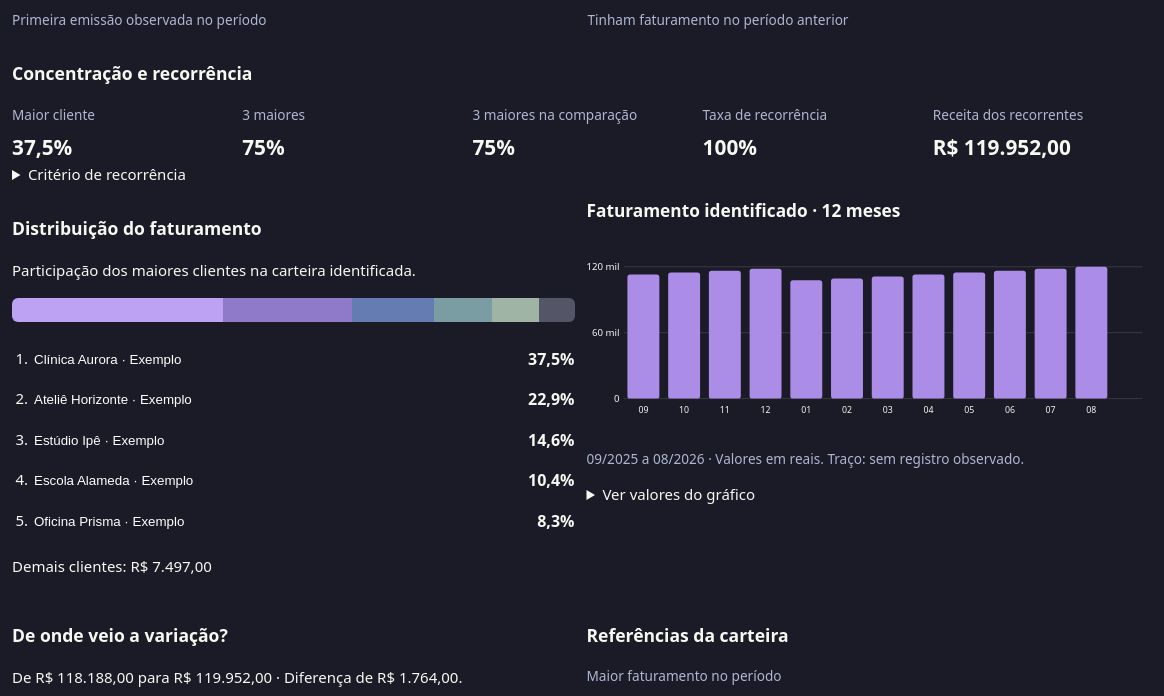
Test: relatório tem gráficos, números e detalhe das notas
(page scrolled)
Expected: the picture named "Faturamento identificado · 12 meses" is shown, [586, 236, 1149, 429]
Click the button "Clínica Aurora · Exemplo": (108,359) [32, 350, 183, 369]
(page scrolled)
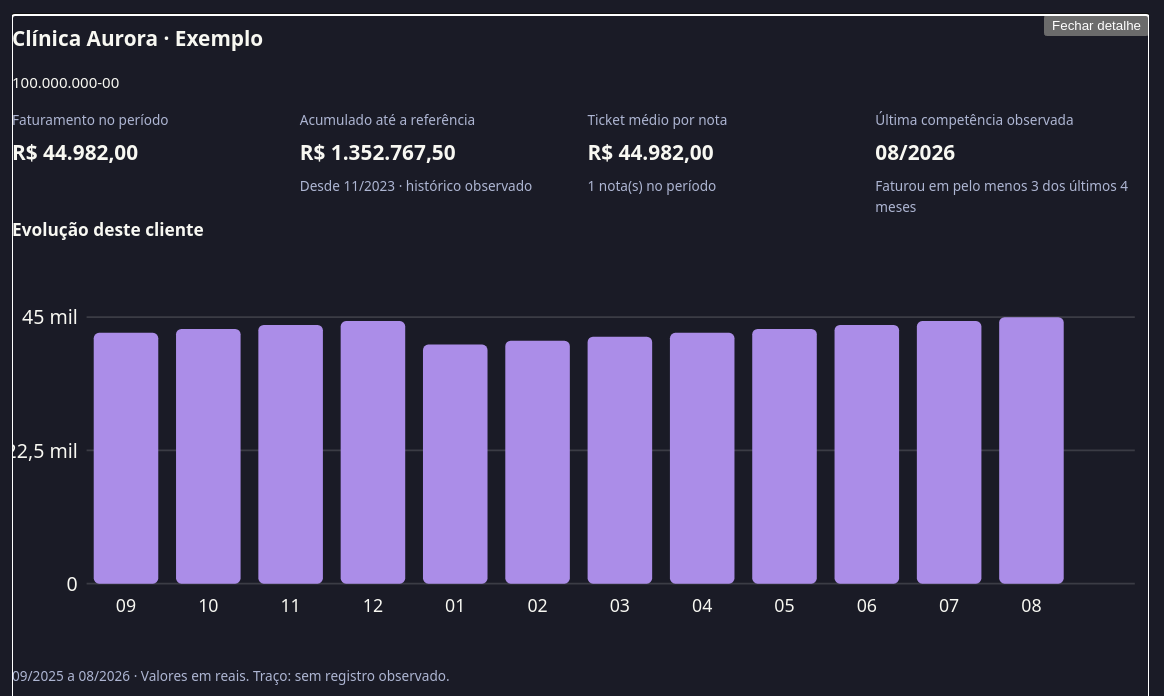
Now the text "Acumulado até a referência" is shown, box [300, 110, 475, 129]
